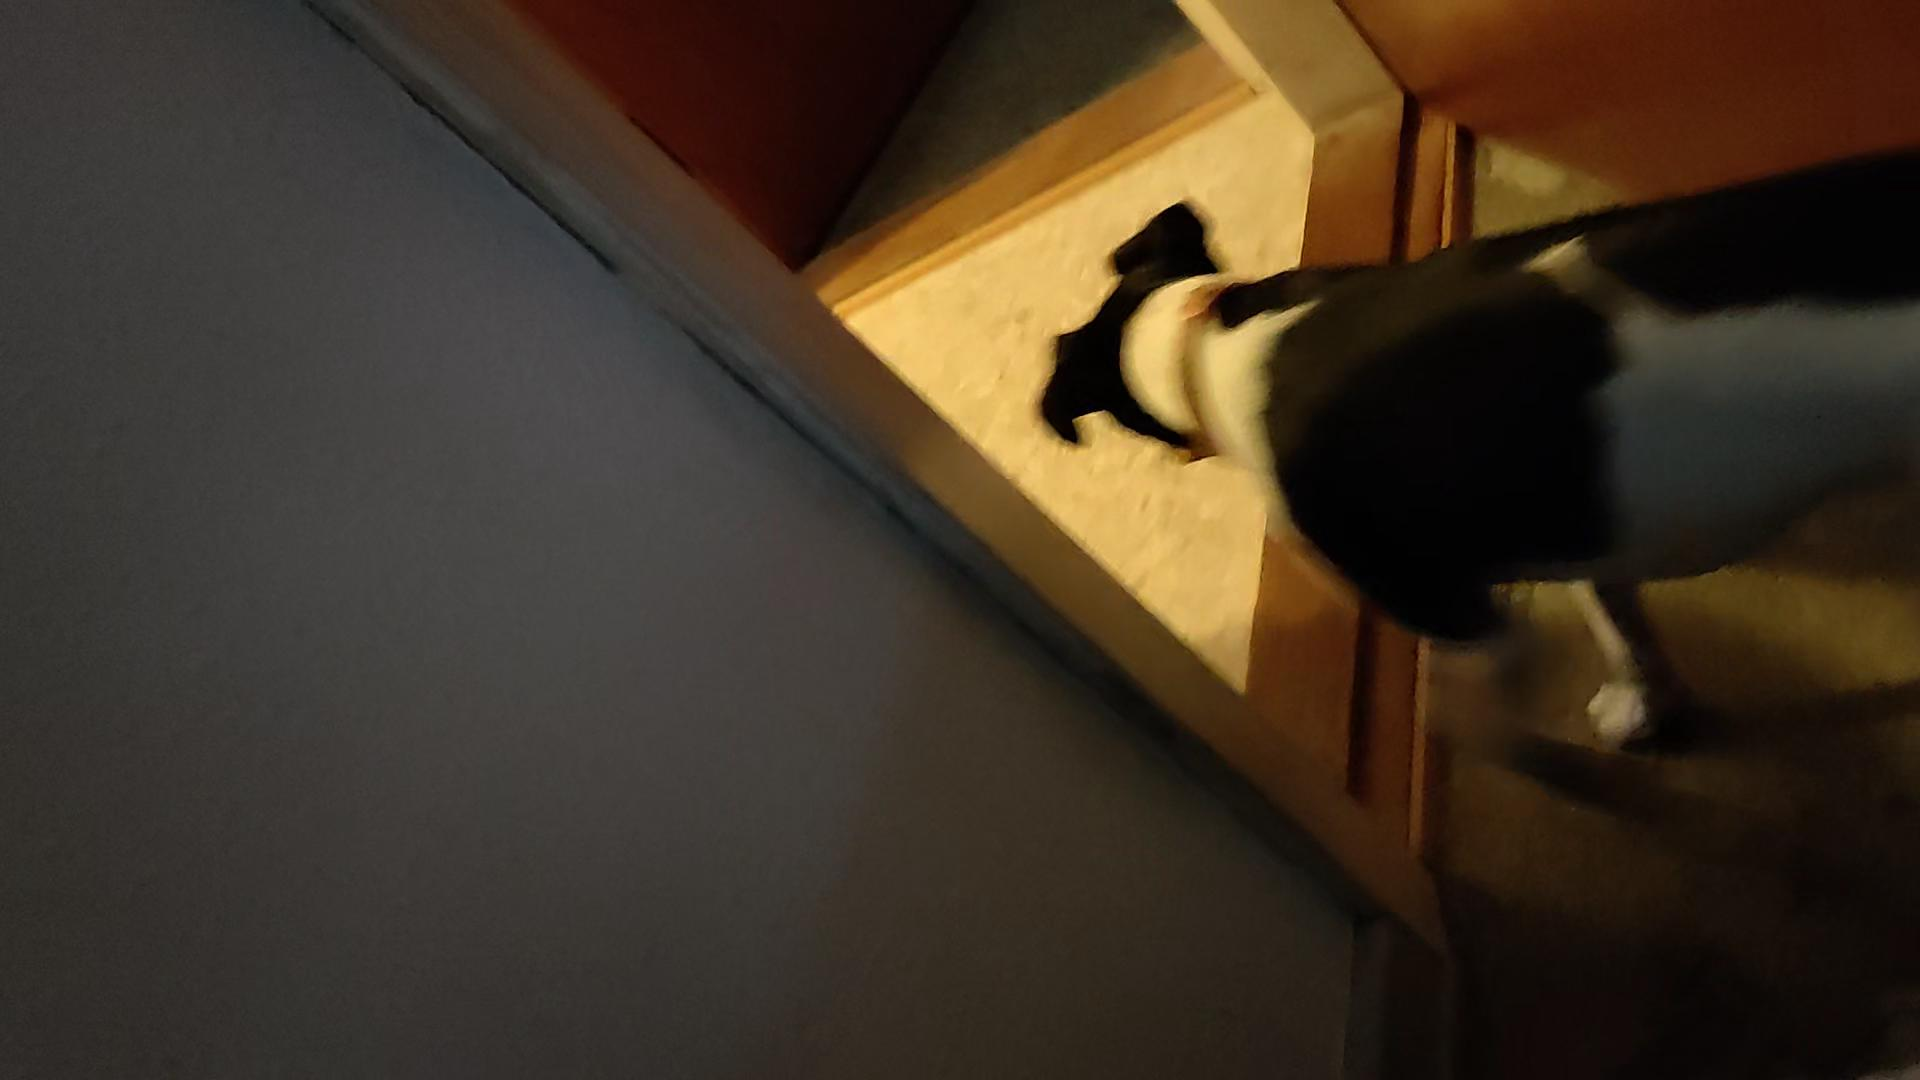Dog: (1004, 131, 1919, 756)
